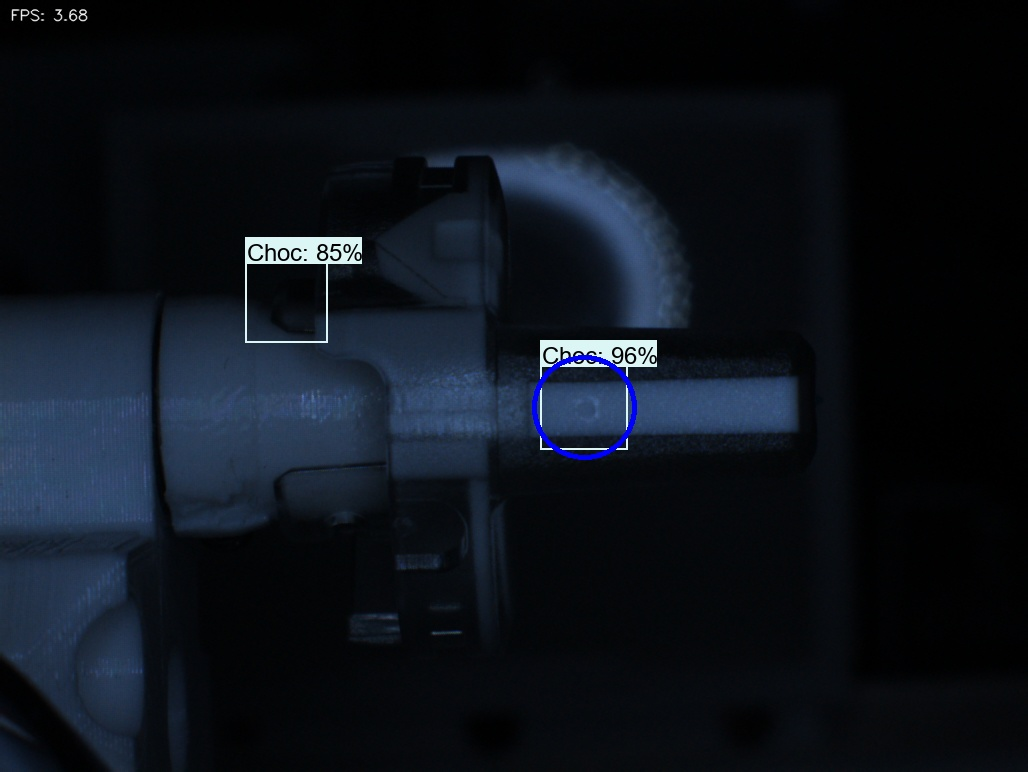DentOk: (357, 200, 421, 296)
